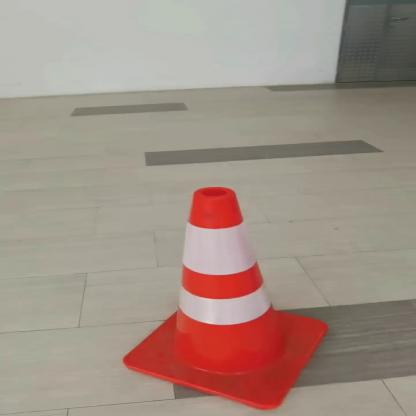cone: (117, 185, 363, 411)
